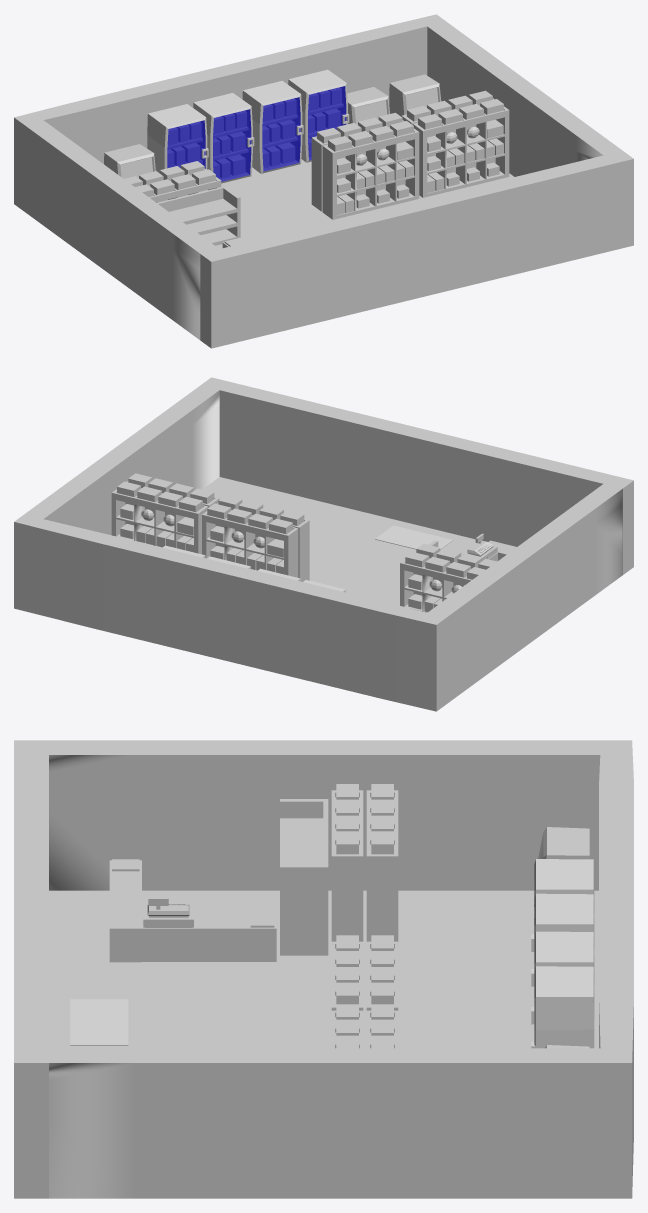
Rendered from Pokemart.fbx.
3 views of the same model, one above another, from view 1: azimuth 30°, elevation 25°; view 2: azimuth 150°, elevation 25°; view 3: azimuth 270°, elevation 25° (orthographic). The views are drawn at different scales.
Visible parts, largest first — view 1: Pokemart, Estante de livro Pokemart.001, Estante de livro Pokemart.002, Refrigerador Pokemart.002, Refrigerador Pokemart.001, Refrigerador Pokemart, EstanteVazia Pokemart, Refrigerador Pokemart.003, Estante de livro Pokemart, Sell Pokemart.003, Sell Pokemart.001, Sell Pokemart.002; view 2: Pokemart, Estante de livro Pokemart.001, Estante de livro Pokemart.002, Estante de livro Pokemart, Tapete..005; view 3: Pokemart, Estante de livro Pokemart, Balcao Pokemart, EstanteVazia Pokemart, Refrigerador Pokemart.003, Estante de livro Pokemart.001, Estante de livro Pokemart.002, Tapete..005, Refrigerador Pokemart.001, Refrigerador Pokemart.002, Refrigerador Pokemart, Sell Pokemart (+1 smaller).
Boxes of the visible parts, x1=… form: Pokemart: x1=14, y1=14, x2=633, y2=348; Estante de livro Pokemart.001: x1=311, y1=112, x2=419, y2=219; Estante de livro Pokemart.002: x1=401, y1=90, x2=509, y2=197; Refrigerador Pokemart.002: x1=242, y1=81, x2=303, y2=173; Refrigerador Pokemart.001: x1=193, y1=93, x2=254, y2=183; Refrigerador Pokemart: x1=147, y1=104, x2=208, y2=173; EstanteVazia Pokemart: x1=157, y1=186, x2=240, y2=248; Refrigerador Pokemart.003: x1=288, y1=69, x2=349, y2=162; Estante de livro Pokemart: x1=124, y1=161, x2=221, y2=202; Sell Pokemart.003: x1=389, y1=74, x2=441, y2=116; Sell Pokemart.001: x1=104, y1=144, x2=155, y2=178; Sell Pokemart.002: x1=347, y1=87, x2=389, y2=124; Pokemart: x1=14, y1=377, x2=633, y2=711; Estante de livro Pokemart.001: x1=202, y1=495, x2=309, y2=581; Estante de livro Pokemart.002: x1=111, y1=473, x2=219, y2=554; Estante de livro Pokemart: x1=400, y1=543, x2=496, y2=612; Tapete..005: x1=375, y1=525, x2=453, y2=549; Pokemart: x1=14, y1=740, x2=633, y2=1198; Estante de livro Pokemart: x1=331, y1=784, x2=398, y2=941; Balcao Pokemart: x1=109, y1=859, x2=276, y2=962; EstanteVazia Pokemart: x1=280, y1=799, x2=328, y2=955; Refrigerador Pokemart.003: x1=531, y1=966, x2=594, y2=1048; Estante de livro Pokemart.001: x1=331, y1=935, x2=398, y2=1010; Estante de livro Pokemart.002: x1=331, y1=1004, x2=398, y2=1048; Tapete..005: x1=70, y1=999, x2=128, y2=1045; Refrigerador Pokemart.001: x1=531, y1=893, x2=594, y2=986; Refrigerador Pokemart.002: x1=531, y1=931, x2=594, y2=1024; Refrigerador Pokemart: x1=531, y1=859, x2=594, y2=951; Sell Pokemart: x1=534, y1=827, x2=589, y2=906.
Size of the model in its own units: 2246 by 454 by 1823.
